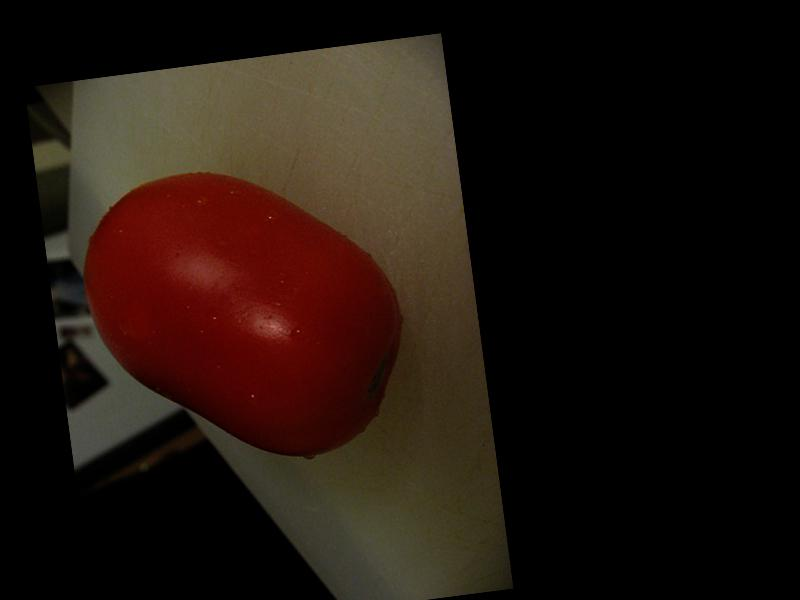Tomato: (70, 149, 415, 482)
